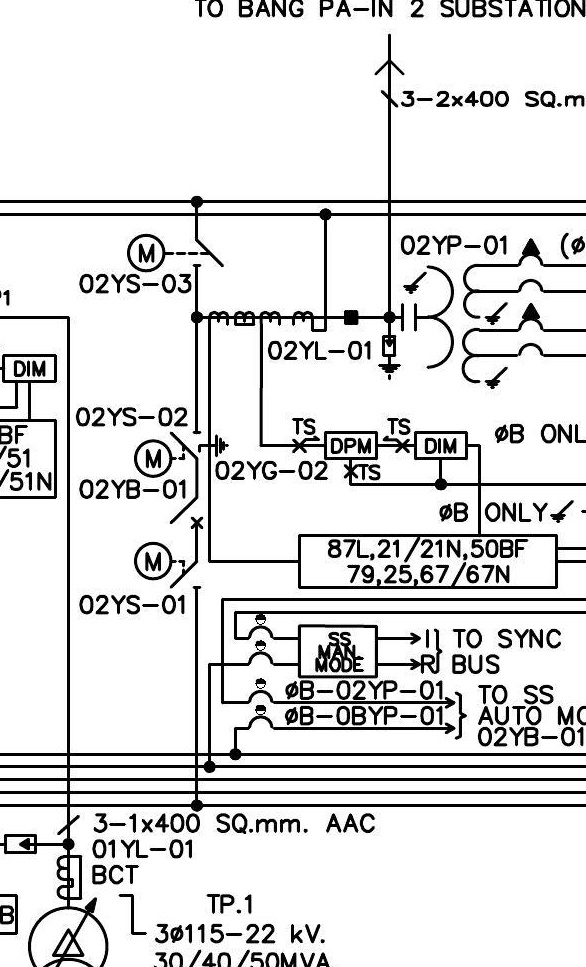115_1way_ds_w_motor: (126, 232, 225, 273), (133, 541, 202, 589)
115_3ways_ds_w_motor: (133, 430, 230, 479)
115_breaker: (169, 496, 204, 529)
115_cvt_1p: (400, 237, 546, 390)
115_la: (377, 335, 401, 381)
DIM: (2, 354, 58, 383), (414, 431, 468, 460)
DPM: (324, 431, 378, 460)
ss_man_mode: (298, 624, 378, 679)
